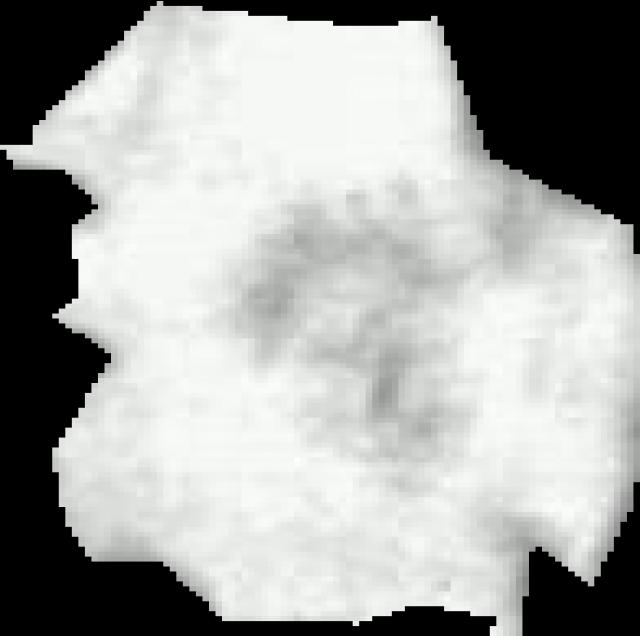tumor_less_chance: (0, 1, 640, 636)
